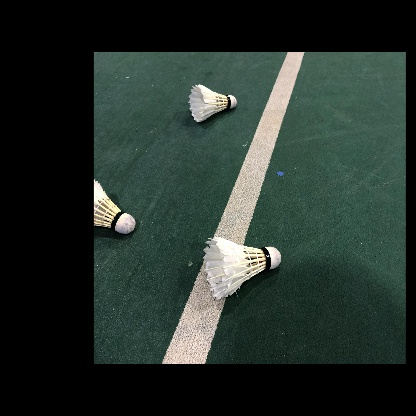ball_single: (203, 237, 281, 300), (94, 179, 136, 234), (188, 84, 237, 122)
